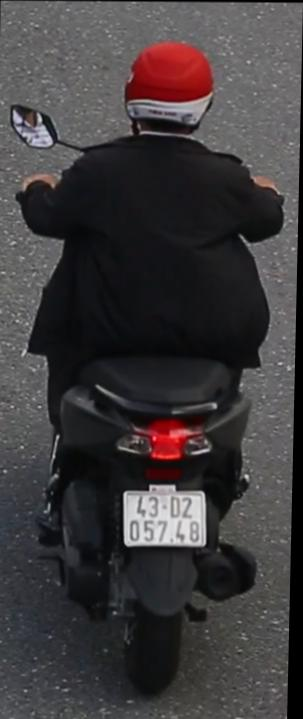LP: (121, 484, 212, 555)
helmet: (117, 36, 218, 153)
